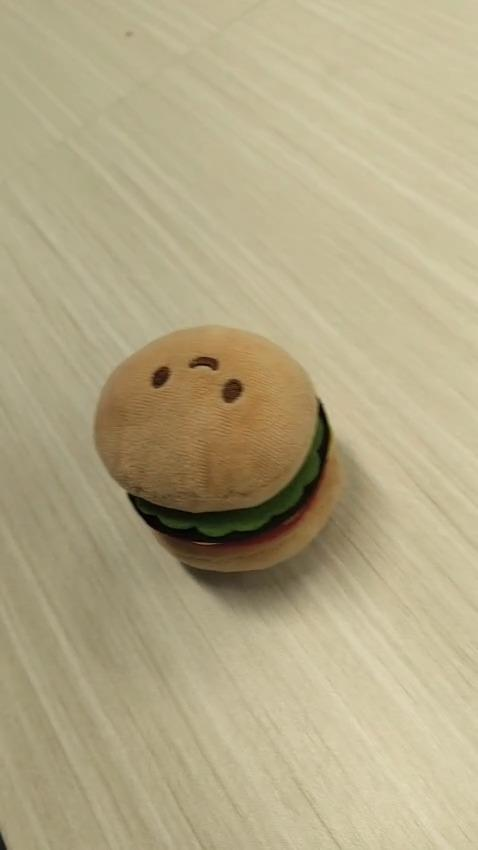hamburger: (92, 323, 342, 574)
